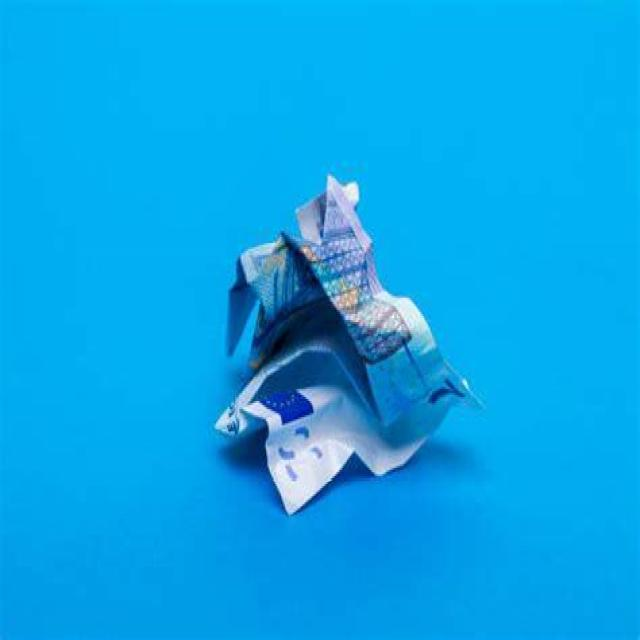banknote: (205, 155, 489, 519)
